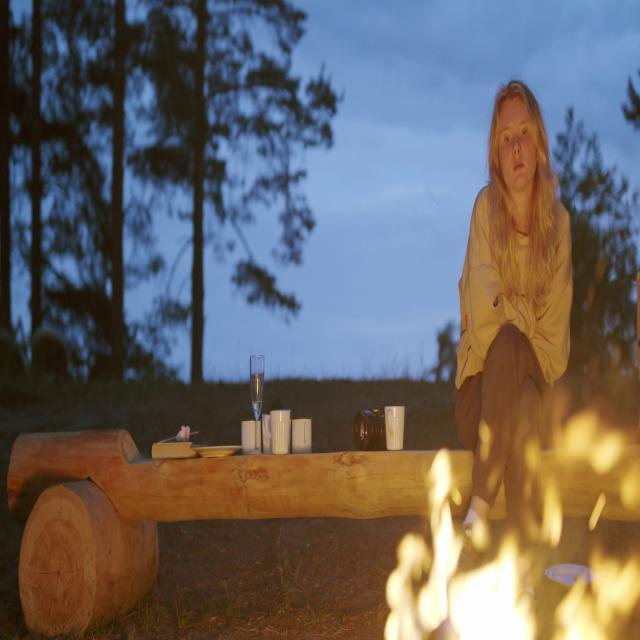Fire: (369, 445, 640, 640)
